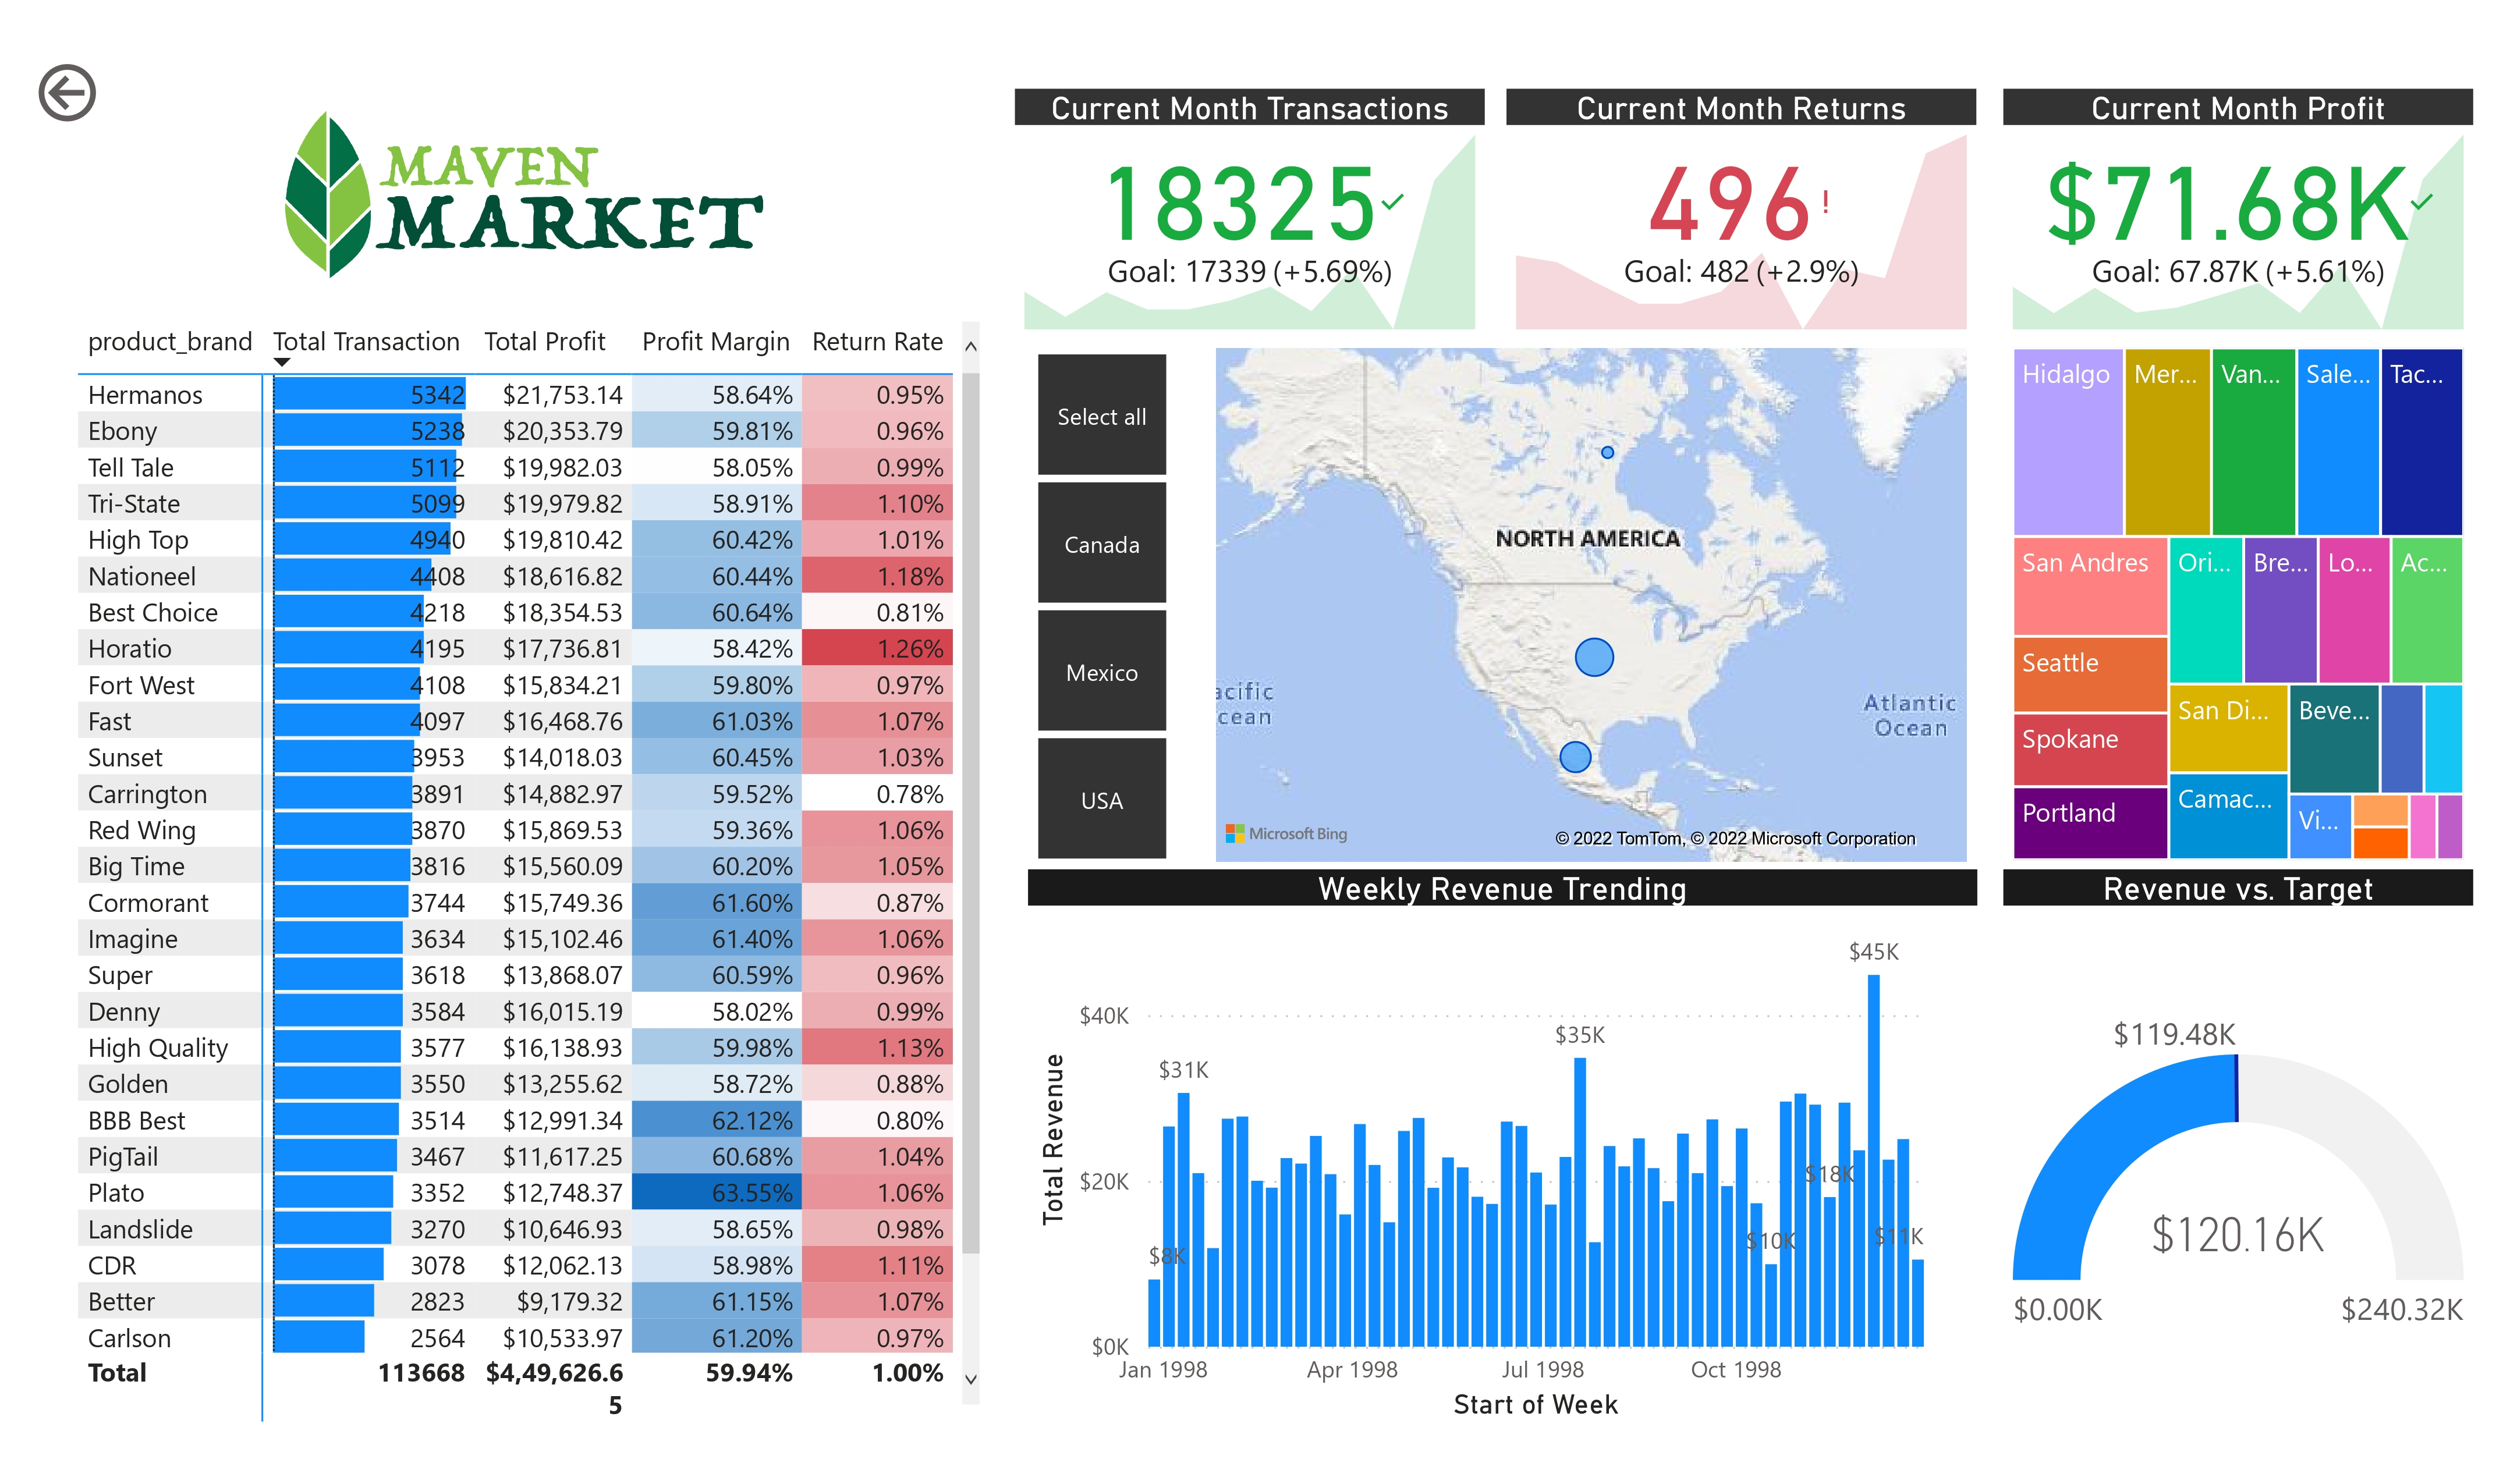

What the dashboard file says about the page in this screenshot:
{"tool":"powerbi","page":{"name":"Topline Performance","canvas":[1280,720],"ordinal":0},"visuals":[{"type":"image","box":[40,7.5,346.6,132.7],"z":0},{"type":"pivotTable","fields":{"Values":["Transaction_Data.Total Transactions","Transaction_Data.Total Profit","Transaction_Data.Profit Margin","Return_Data.Return Rate"],"Rows":["Products.product_brand"]},"box":[20.6,161.3,401.5,536],"z":1000},{"type":"kpi","title":"Current Month Transactions","fields":{"TrendLine":["Calendar.Start of Month"],"Goal":["Transaction_Data.Last Month Transactions"],"Indicator":["Transaction_Data.Total Transactions"]},"box":[445.9,19,240.2,124.7],"z":2000},{"type":"kpi","title":"Current Month Profit","fields":{"TrendLine":["Calendar.Start of Month"],"Goal":["Transaction_Data.Last Month Profit"],"Indicator":["Transaction_Data.Total Profit"]},"box":[723.3,19,242.5,124.7],"z":3000},{"type":"kpi","title":"Current Month Returns","fields":{"TrendLine":["Calendar.Start of Month"],"Goal":["Return_Data.Last Month Returns"],"Indicator":["Return_Data.Total Returns"]},"box":[1003,19,242.5,124.7],"z":4000},{"type":"map","fields":{"Category":["Stores.store_city"],"Size":["Transaction_Data.Total Transactions"]},"box":[532.8,182.5,442.7,266.5],"z":5000},{"type":"slicer","fields":{"Values":["Stores.store_country"]},"box":[420.5,178.9,124.7,270],"z":6000},{"type":"columnChart","title":"Weekly Revenue Trending","fields":{"Category":["Calendar.Start of Week"],"Y":["Transaction_Data.Total Revenue"]},"box":[445.9,490,525.3,192.2],"z":7000},{"type":"gauge","title":"Revenue vs. Target","fields":{"Y":["Transaction_Data.Total Revenue"],"TargetValue":["Transaction_Data.Revenue Target"]},"box":[991.1,490,254.4,171.6],"z":8000},{"type":"basicShape","box":[671.7,2.9,67.5,161.3],"z":9000},{"type":"basicShape","box":[950.3,2.9,67.5,161.3],"z":10000},{"type":"treemap","fields":{"Group":["Stores.store_country","Stores.store_state","Stores.store_city"],"Values":["Transaction_Data.Total Transactions"]},"box":[985.8,181.4,261.9,270],"z":11000}]}

Visuals, with their boxes on the page's 1280x720 design canvas (x1, y1, x2, y2). These are canvas units, not pixel positions in the 2503x1484 screenshot, which may show the page scaled, cropped or inside an application window:
image: [40,8,387,140]
pivotTable - Transaction_Data.Total Transactions x Transaction_Data.Total Profit: [21,161,422,697]
"Current Month Transactions" kpi: [446,19,686,144]
"Current Month Profit" kpi: [723,19,966,144]
"Current Month Returns" kpi: [1003,19,1246,144]
map - Stores.store_city x Transaction_Data.Total Transactions: [533,182,976,449]
slicer - Stores.store_country: [420,179,545,449]
"Weekly Revenue Trending" columnChart: [446,490,971,682]
"Revenue vs. Target" gauge: [991,490,1246,662]
basicShape: [672,3,739,164]
basicShape: [950,3,1018,164]
treemap - Stores.store_country x Stores.store_state: [986,181,1248,451]
